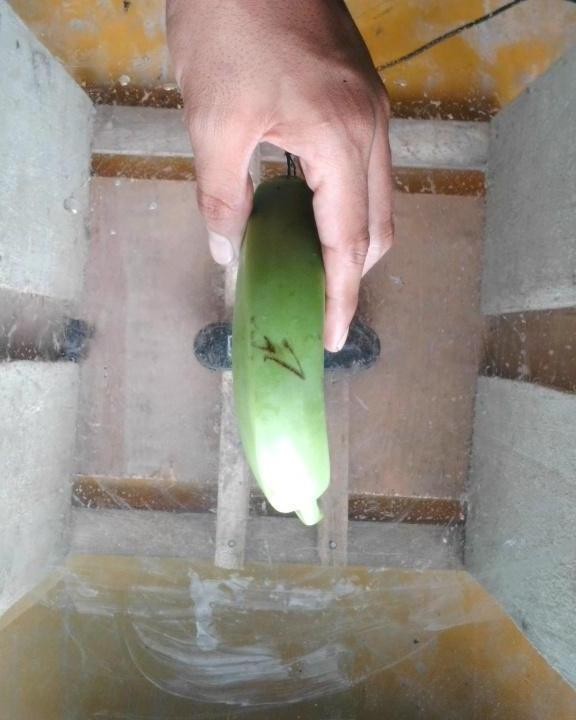CLASS B: (214, 163, 348, 544)
Class A: (244, 307, 314, 391)
